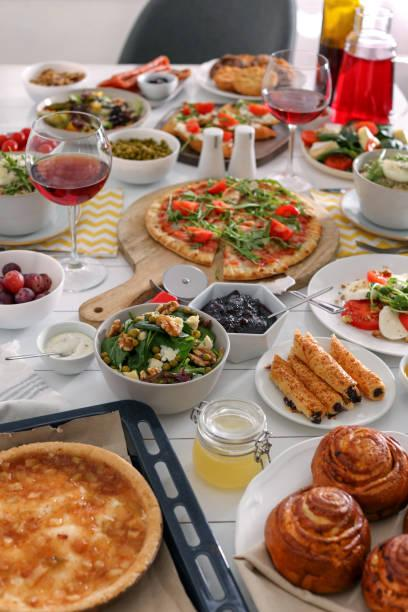Braised Crucian Carp: (0, 408, 212, 611), (234, 435, 406, 607), (113, 183, 340, 280), (93, 302, 227, 411), (252, 336, 396, 428), (307, 254, 404, 353)
